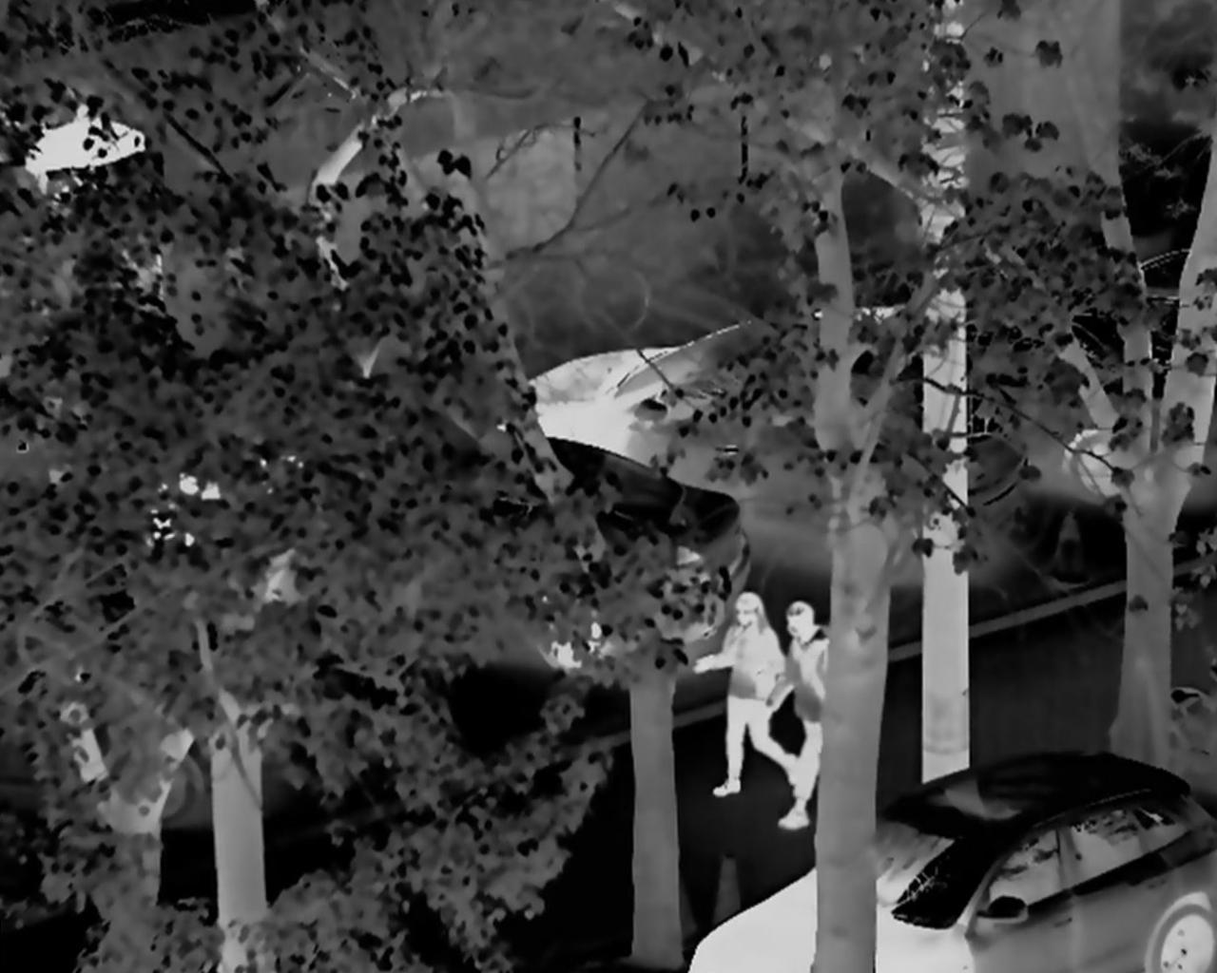person: (689, 587, 787, 803), (767, 592, 846, 826)
